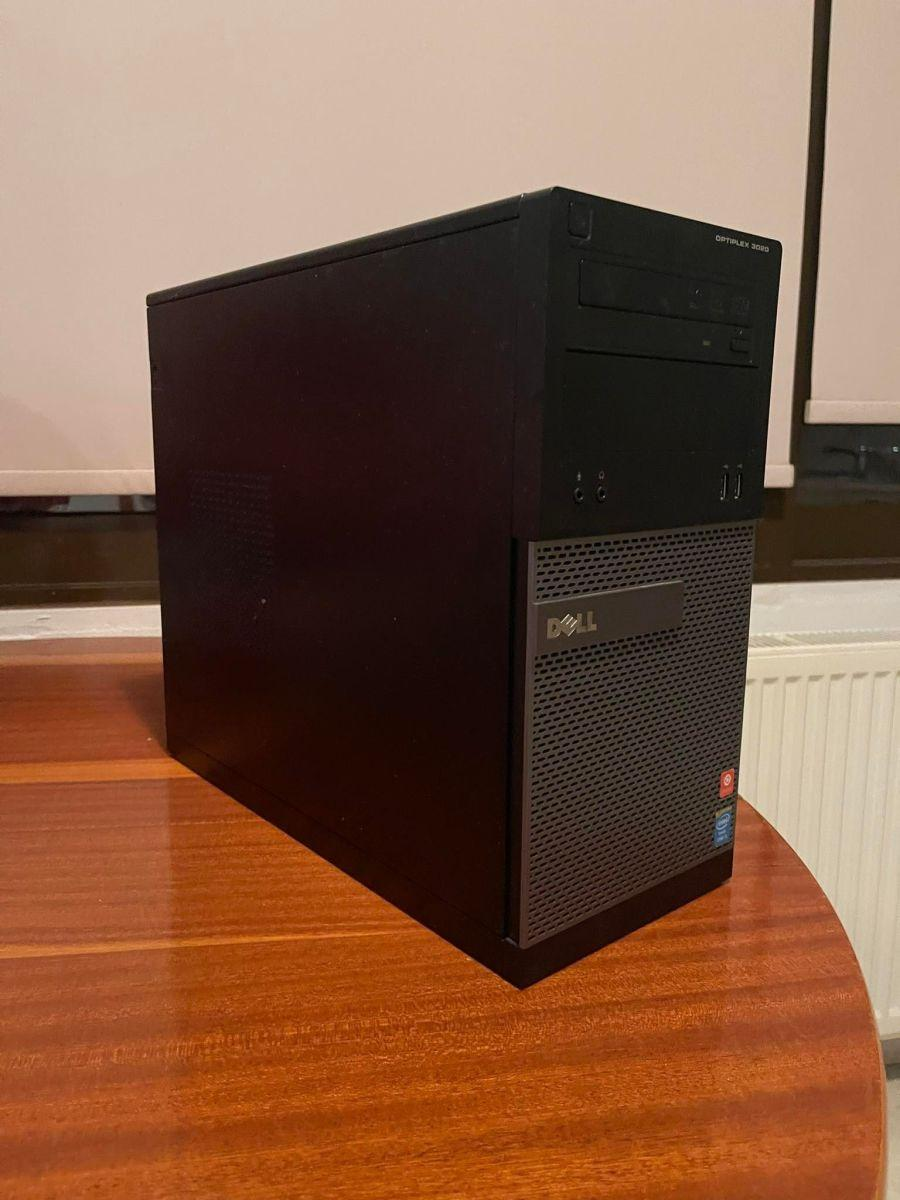computer_tower: (152, 184, 784, 960)
